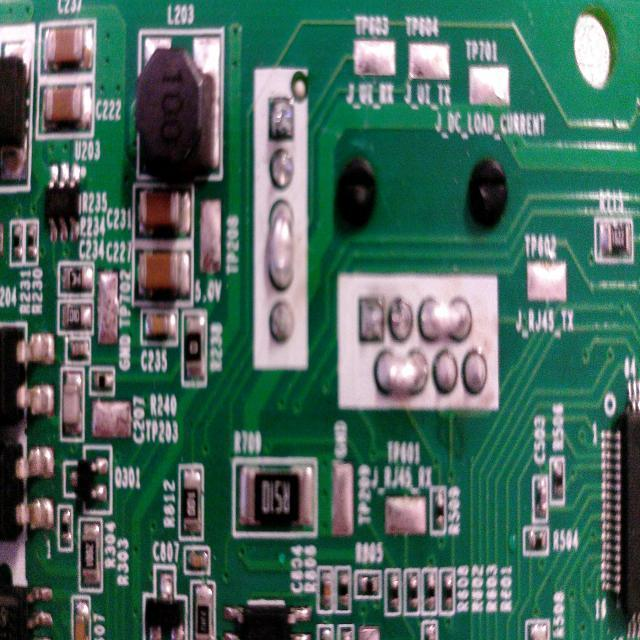Soldering shorted: (416, 292, 479, 347), (263, 198, 299, 294), (371, 348, 430, 401)
